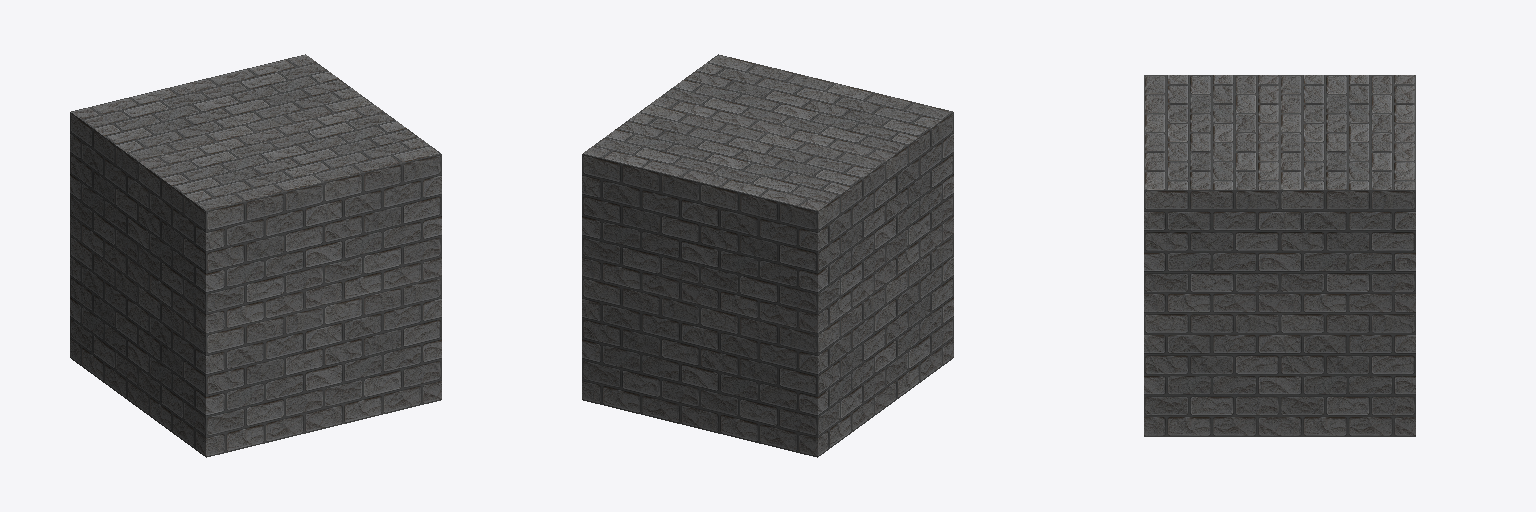
3 renders of one model, left to right at view 1: azimuth 30°, elevation 25°; view 2: azimuth 150°, elevation 25°; view 3: azimuth 270°, elevation 25°, orthographic.
Parts seen in each view (by area): view 1: Cube_Cube.001; view 2: Cube_Cube.001; view 3: Cube_Cube.001.
Boxes of the visible parts, box(x1,y1,x2,y2) form: Cube_Cube.001: box(70, 54, 441, 457); Cube_Cube.001: box(582, 54, 953, 457); Cube_Cube.001: box(1144, 75, 1415, 436).
Bounding box in the file's own units: 2 × 2 × 2.
1 materials, 1 textured.